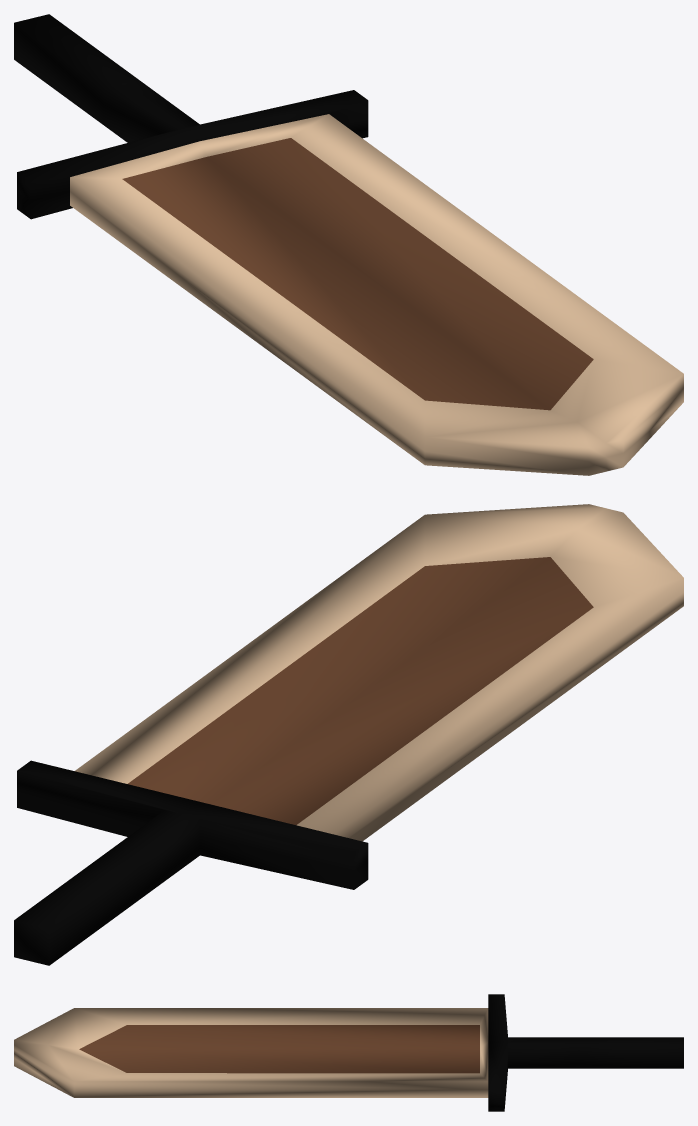
File: char_000_weapon_03_sample_03_FBX.fbx
3 renders of one model, top to bottom at view 1: azimuth 30°, elevation 25°; view 2: azimuth 150°, elevation 25°; view 3: azimuth 270°, elevation 25°, orthographic. The views are drawn at different scales.
Visible parts, largest first — view 1: weapon_sample_03; view 2: weapon_sample_03; view 3: weapon_sample_03.
Boxes of the visible parts, x1,y1,x2,y2 form: weapon_sample_03: (14, 14, 683, 475); weapon_sample_03: (14, 504, 683, 965); weapon_sample_03: (14, 994, 683, 1111).
Size of the model in its own units: 1.17 by 0.1221 by 3.45.
1 material, 1 textured.
